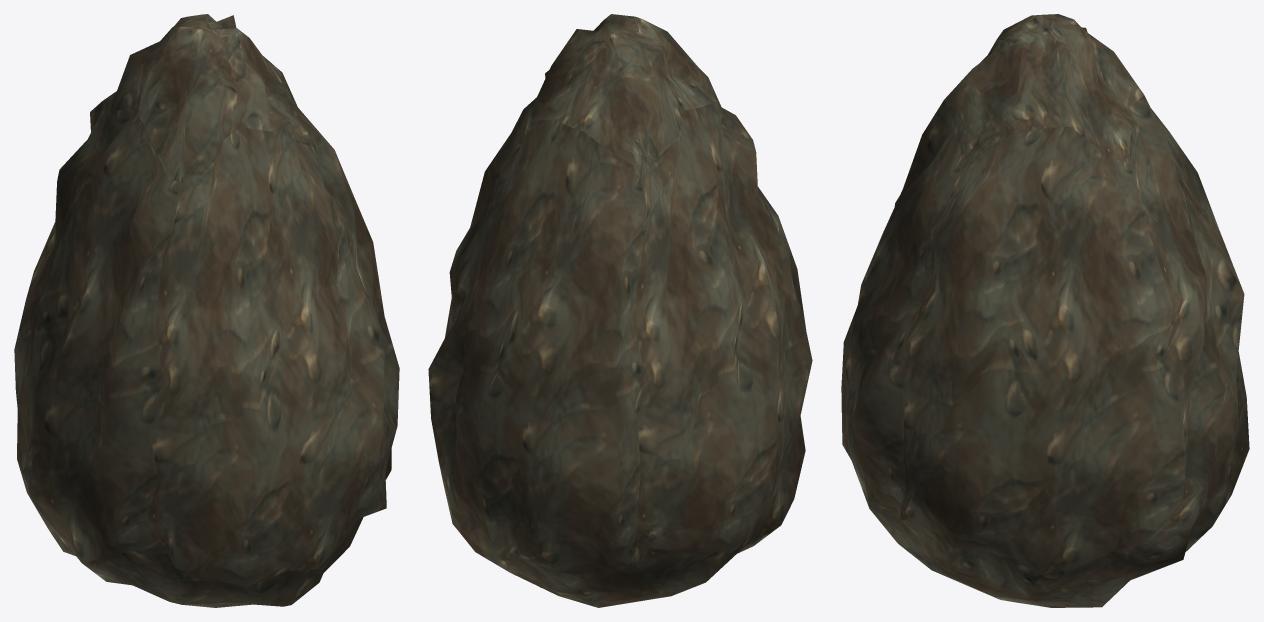
File: rock_01.FBX
3 renders of one model, left to right at view 1: azimuth 30°, elevation 25°; view 2: azimuth 150°, elevation 25°; view 3: azimuth 270°, elevation 25°, orthographic. The views are drawn at different scales.
Visible parts, largest first — view 1: Box004; view 2: Box004; view 3: Box004.
Boxes of the visible parts, x1,y1,x2,y2 form: Box004: (14,14,399,607); Box004: (428,14,812,607); Box004: (841,14,1249,607).
Size of the model in its own units: 26.15 by 44.81 by 29.26.
